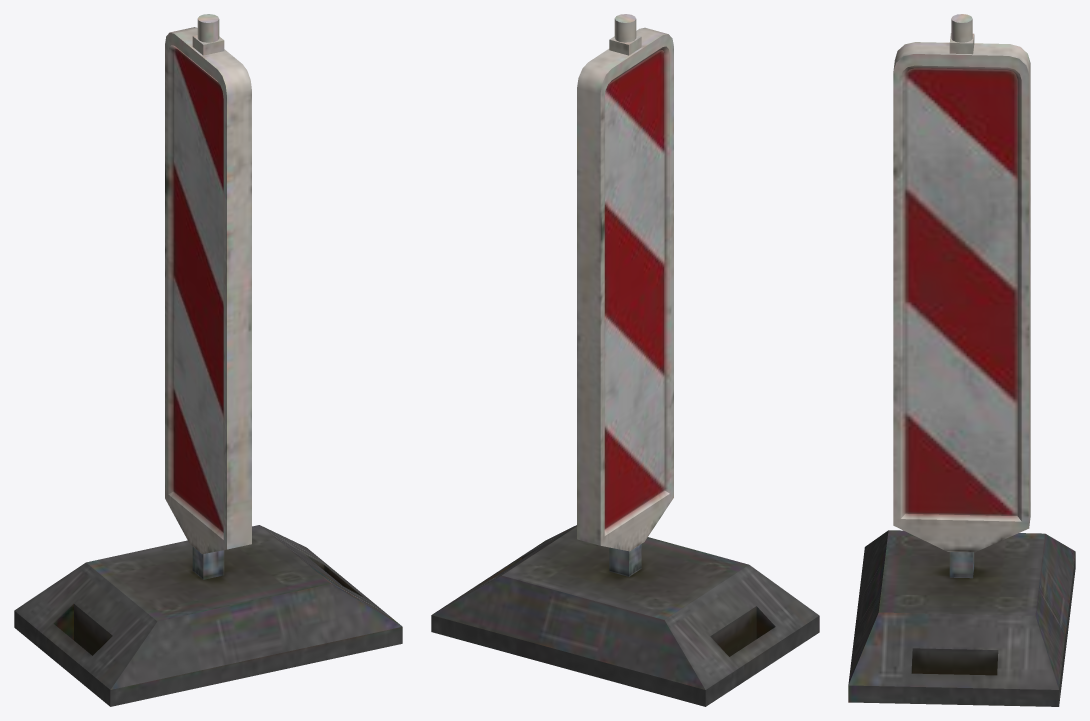
File: channelizer.glb
3 renders of one model, left to right at view 1: azimuth 30°, elevation 25°; view 2: azimuth 150°, elevation 25°; view 3: azimuth 270°, elevation 25°, orthographic.
Visible parts, largest first — view 1: Vertical_Panel_1.001_w; view 2: Vertical_Panel_1.001_w; view 3: Vertical_Panel_1.001_w.
Boxes of the visible parts, bbox=[...] form: Vertical_Panel_1.001_w: bbox=[14, 14, 402, 706]; Vertical_Panel_1.001_w: bbox=[431, 14, 819, 706]; Vertical_Panel_1.001_w: bbox=[848, 14, 1075, 706].
Bounding box in the file's own units: 0.5718 × 1.15 × 0.384.
1 material, 1 textured.
